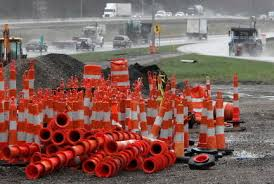barrel: (110, 61, 129, 92), (85, 66, 100, 86)
